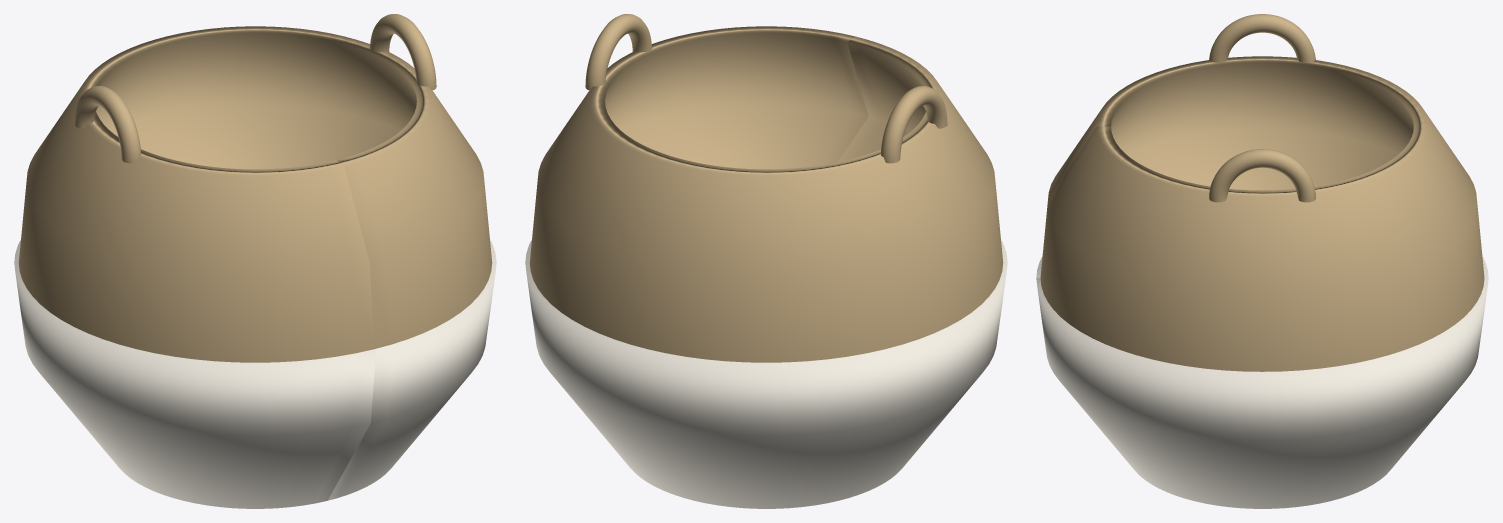
The model's file is woven_basket.glb.
3 renders of one model, left to right at view 1: azimuth 30°, elevation 25°; view 2: azimuth 150°, elevation 25°; view 3: azimuth 270°, elevation 25°, orthographic. The views are drawn at different scales.
Bounding box in the file's own units: 1.84 × 1.66 × 1.84.
